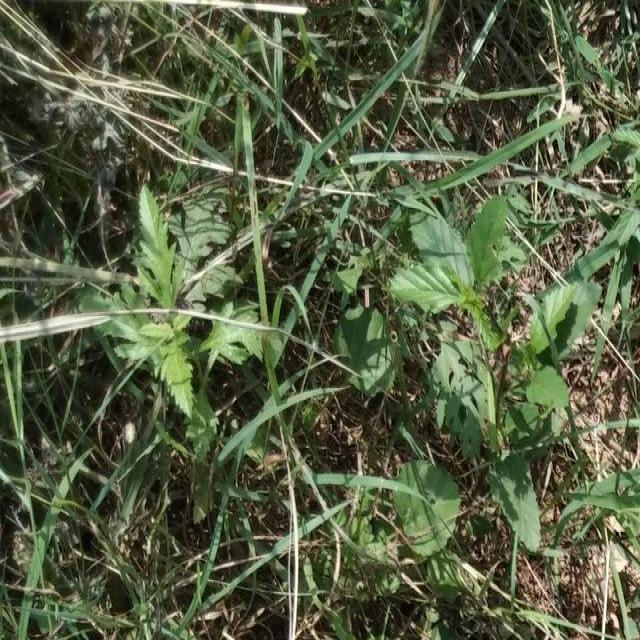weed: (414, 222, 576, 541), (46, 189, 262, 415)
